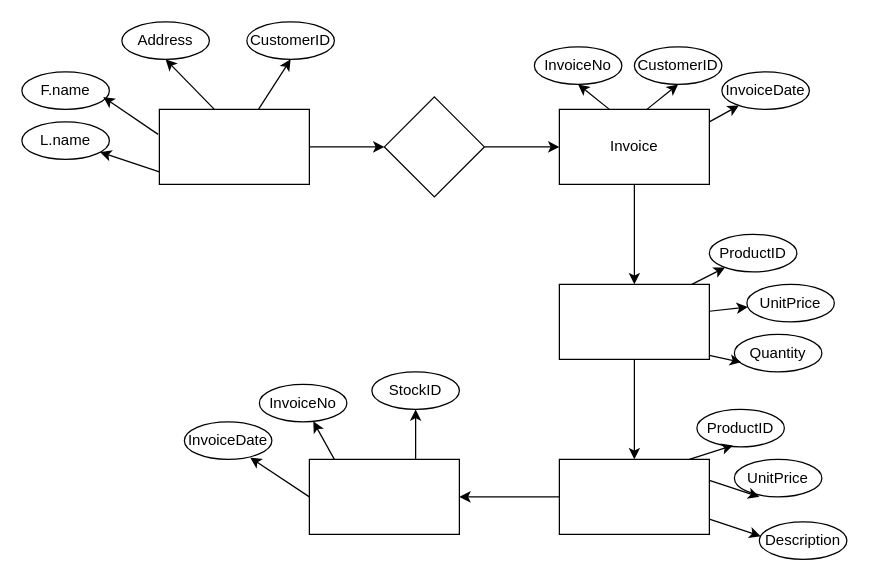
The diagram is 869 pixels wide and 581 high, and some of its shapes have lost their labels. The shapes that lost their labels are listed below. From the top down, each one's centre as x and y in pixels, then its label:
At (233,146): "Customer".
At (433,146): "Places order".
At (633,321): "OrderDetail".
At (383,496): "Stock".
At (633,496): "Product".
